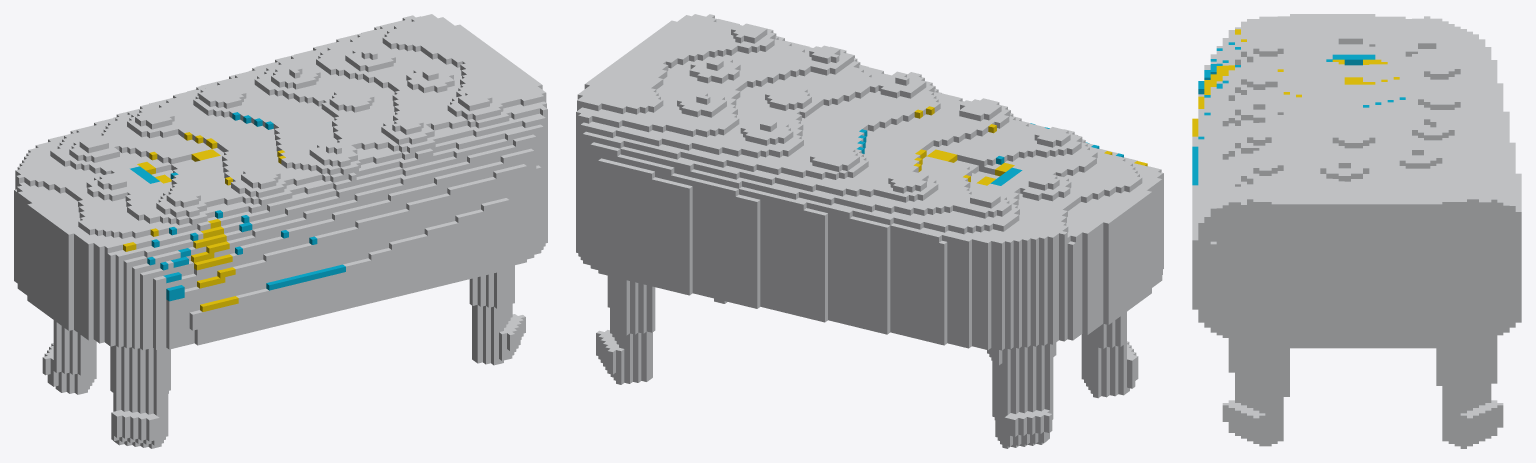
3 renders of one model, left to right at view 1: azimuth 30°, elevation 25°; view 2: azimuth 150°, elevation 25°; view 3: azimuth 270°, elevation 25°, orthographic. The views are drawn at different scales.
Parts seen in each view (by area): view 1: =>[0:1:1:1180], =>[0:1:1:309], =>[0:1:1:629], =>[0:1:1:256], =>[0:1:1:1183], =>[0:1:1:1213], =>[0:1:1:648], =>[0:1:1:627], =>[0:1:1:436], =>[0:1:1:649], =>[0:1:1:634], =>[0:1:1:1184] (+34 smaller); view 2: =>[0:1:1:566], =>[0:1:1:1268], =>[0:1:1:1032], =>[0:1:1:1050], =>[0:1:1:655], =>[0:1:1:309], =>[0:1:1:256], =>[0:1:1:1168], =>[0:1:1:649], =>[0:1:1:1808], =>[0:1:1:1213], =>[0:1:1:436] (+26 smaller); view 3: =>[0:1:1:938], =>[0:1:1:564], =>[0:1:1:256], =>[0:1:1:563], =>[0:1:1:1585], =>[0:1:1:1586], =>[0:1:1:664], =>[0:1:1:665], =>[0:1:1:1213], =>[0:1:1:436], =>[0:1:1:565], =>[0:1:1:1816] (+52 smaller).
Part boxes in pixels (<box>): =>[0:1:1:1180]: <box>197,239,504,345</box>; =>[0:1:1:309]: <box>27,204,68,330</box>; =>[0:1:1:629]: <box>235,243,342,295</box>; =>[0:1:1:256]: <box>412,14,543,100</box>; =>[0:1:1:1183]: <box>238,233,504,303</box>; =>[0:1:1:1213]: <box>193,114,286,170</box>; =>[0:1:1:648]: <box>74,234,88,340</box>; =>[0:1:1:627]: <box>506,166,526,239</box>; =>[0:1:1:436]: <box>223,77,326,148</box>; =>[0:1:1:649]: <box>17,192,31,295</box>; =>[0:1:1:634]: <box>389,207,424,242</box>; =>[0:1:1:1184]: <box>346,228,504,271</box>; =>[0:1:1:566]: <box>598,166,689,295</box>; =>[0:1:1:1268]: <box>692,186,757,308</box>; =>[0:1:1:1032]: <box>760,200,824,322</box>; =>[0:1:1:1050]: <box>828,213,887,334</box>; =>[0:1:1:655]: <box>890,231,944,345</box>; =>[0:1:1:309]: <box>1108,192,1151,324</box>; =>[0:1:1:256]: <box>577,14,715,105</box>; =>[0:1:1:1168]: <box>947,236,968,348</box>; =>[0:1:1:649]: <box>1087,222,1103,334</box>; =>[0:1:1:1808]: <box>972,239,987,349</box>; =>[0:1:1:1213]: <box>868,108,959,170</box>; =>[0:1:1:436]: <box>781,94,896,170</box>; =>[0:1:1:938]: <box>1277,204,1442,348</box>; =>[0:1:1:564]: <box>1442,202,1466,345</box>; =>[0:1:1:256]: <box>1247,189,1478,199</box>; =>[0:1:1:563]: <box>1253,268,1277,345</box>; =>[0:1:1:1585]: <box>1228,202,1240,340</box>; =>[0:1:1:1586]: <box>1479,202,1491,340</box>; =>[0:1:1:664]: <box>1241,205,1253,342</box>; =>[0:1:1:665]: <box>1467,199,1478,342</box>; =>[0:1:1:1213]: <box>1271,87,1423,97</box>; =>[0:1:1:436]: <box>1283,110,1478,117</box>; =>[0:1:1:565]: <box>1253,202,1271,268</box>; =>[0:1:1:1816]: <box>1491,199,1497,337</box>.
Size of the model in its own units: 39.22 by 20.69 by 23.28.
